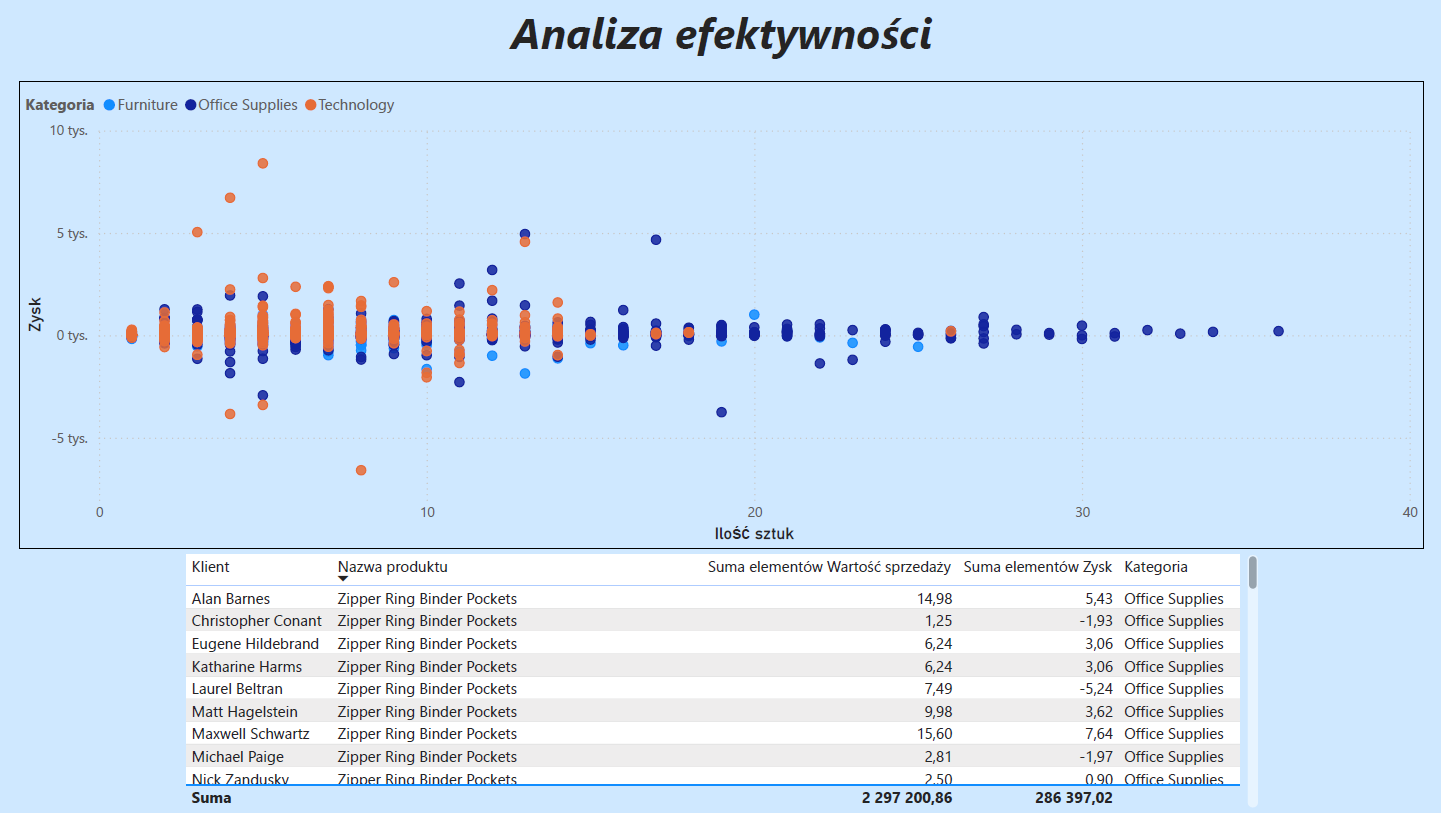

The page's visual inventory and layout, read from the dashboard file:
{"tool":"powerbi","page":{"name":"Strona 2","canvas":[1280,720],"ordinal":1},"visuals":[{"type":"scatterChart","fields":{"X":["Sum(Sprzedaże.Ilość sztuk)"],"Y":["Sum(Sprzedaże.Zysk)"],"Category":["Zamówienia.ID zamówienia"],"Series":["Produkty.Kategoria"]},"box":[19,73,1242,414],"z":0},{"type":"tableEx","fields":{"Values":["Klienci.Klient","Produkty.Nazwa produktu","Sum(Sprzedaże.Wartość sprzedaży)","Sum(Sprzedaże.Zysk)","Produkty.Kategoria"]},"box":[161,487,958,233],"z":1000},{"type":"textbox","box":[0,0,1280,73],"z":2000}]}

Visuals, with their boxes in screenshot pixels (x1, y1, x2, y2), scaled from the page's 1280x720 canvas onto the 1441x813 screenshot:
scatterChart - Sum(Sprzedaże.Ilość sztuk) x Sum(Sprzedaże.Zysk): box=[21, 82, 1420, 550]
tableEx - Klienci.Klient x Produkty.Nazwa produktu: box=[181, 550, 1260, 812]
textbox: box=[0, 0, 1440, 82]
